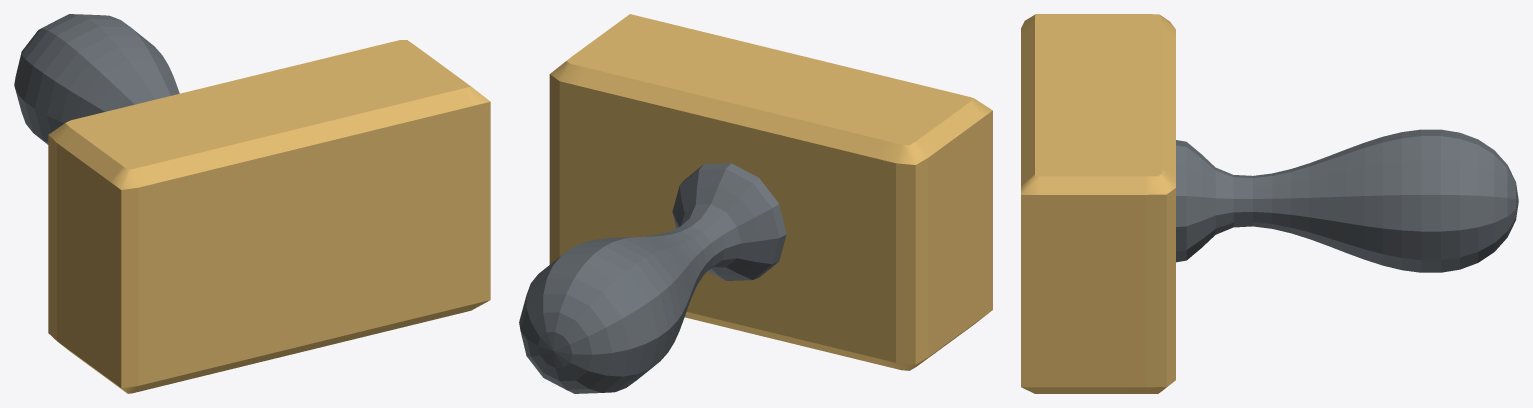
Rendered from thappa Rubber Stamp.fbx.
The picture shows the model from 3 angles, left to right: view 1: azimuth 30°, elevation 25°; view 2: azimuth 150°, elevation 25°; view 3: azimuth 270°, elevation 25°; orthographic projection. The views are drawn at different scales.
Visible parts, largest first — view 1: imagetostl_mesh0, imagetostl_mesh2, imagetostl_mesh5, imagetostl_mesh1, imagetostl_mesh3; view 2: imagetostl_mesh0, imagetostl_mesh5, imagetostl_mesh2, imagetostl_mesh1, imagetostl_mesh3; view 3: imagetostl_mesh5, imagetostl_mesh0, imagetostl_mesh2, imagetostl_mesh1, imagetostl_mesh3.
Boxes of the visible parts, x1,y1,x2,y2 form: imagetostl_mesh0: (48, 102, 490, 388); imagetostl_mesh2: (65, 40, 470, 169); imagetostl_mesh5: (14, 14, 179, 144); imagetostl_mesh1: (48, 86, 490, 189); imagetostl_mesh3: (59, 300, 489, 393); imagetostl_mesh0: (549, 74, 992, 364); imagetostl_mesh5: (519, 163, 786, 393); imagetostl_mesh2: (566, 14, 974, 145); imagetostl_mesh1: (550, 61, 992, 164); imagetostl_mesh3: (685, 312, 988, 370); imagetostl_mesh5: (1176, 129, 1518, 272); imagetostl_mesh0: (1021, 188, 1175, 387); imagetostl_mesh2: (1035, 14, 1161, 176); imagetostl_mesh1: (1021, 14, 1175, 194); imagetostl_mesh3: (1022, 382, 1172, 393).
Size of the model in its own units: 16604 by 9676 by 20056.
